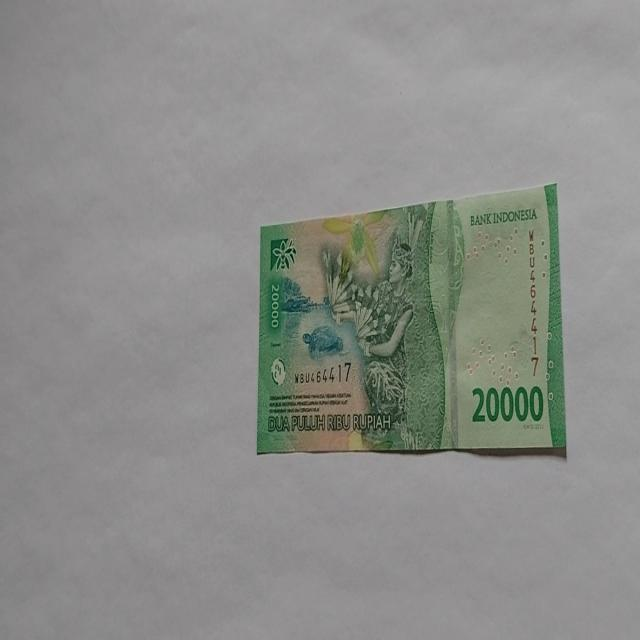dua puluh ribu rupiah: (256, 180, 566, 458), (320, 199, 464, 452)
